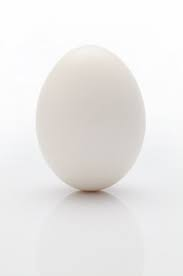eggs: (33, 38, 152, 200)
